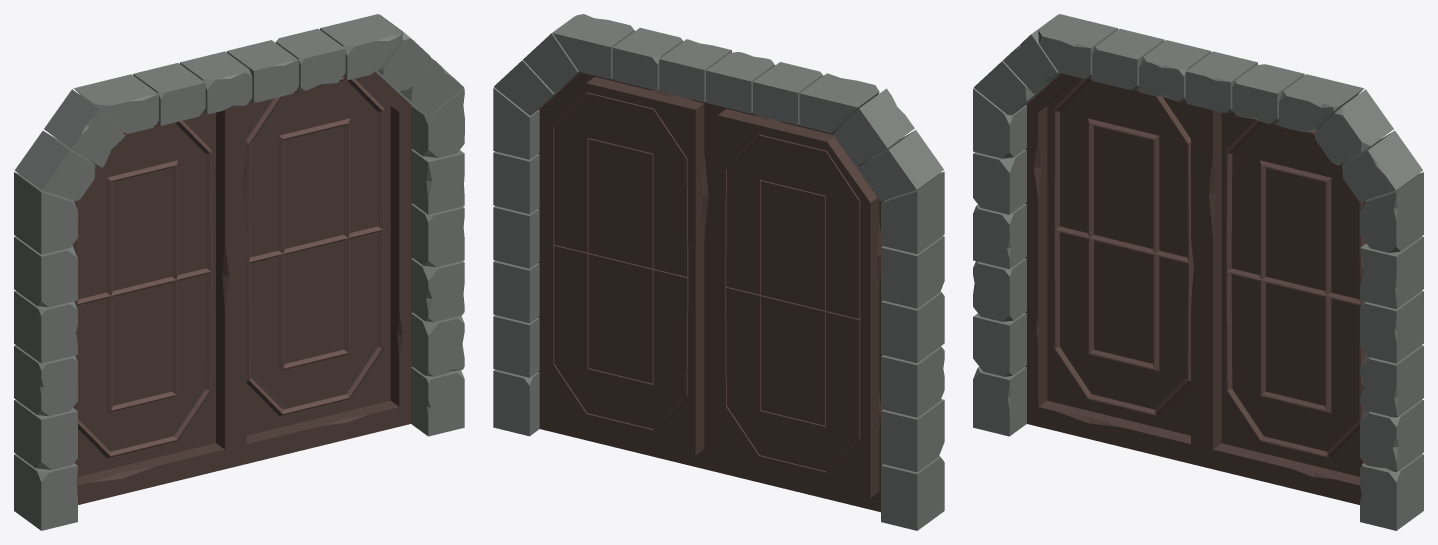
Rendered from SM_Env_Door_09.fbx.
The picture shows the model from 3 angles, left to right: view 1: azimuth 30°, elevation 25°; view 2: azimuth 150°, elevation 25°; view 3: azimuth 330°, elevation 25°; orthographic projection.
Parts seen in each view (by area): view 1: SM_Env_Door_09; view 2: SM_Env_Door_09; view 3: SM_Env_Door_09.
Part boxes in pixels (x1,y1,x2,y2): SM_Env_Door_09: (14,14,464,530); SM_Env_Door_09: (493,14,944,530); SM_Env_Door_09: (973,14,1423,530).
Bounding box in the file's own units: 200 × 184 × 22.55.
1 material, 1 textured.
